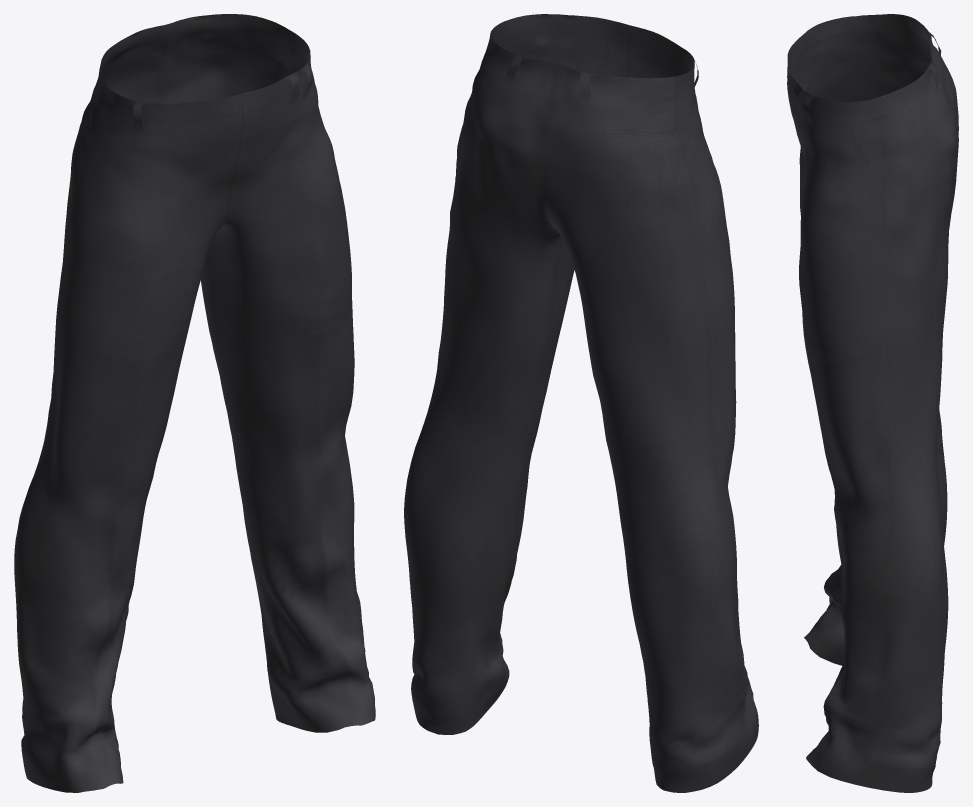
The model's file is trousers-charcoal.glb.
3 renders of one model, left to right at view 1: azimuth 30°, elevation 25°; view 2: azimuth 150°, elevation 25°; view 3: azimuth 270°, elevation 25°, orthographic. The views are drawn at different scales.
Visible parts, largest first — view 1: trousers-charcoal; view 2: trousers-charcoal; view 3: trousers-charcoal.
Boxes of the visible parts, x1,y1,x2,y2 form: trousers-charcoal: [14, 14, 375, 792]; trousers-charcoal: [404, 14, 758, 792]; trousers-charcoal: [787, 14, 958, 792].
Bounding box in the file's own units: 0.5403 × 1.12 × 0.2559.
1 material, 1 textured.
